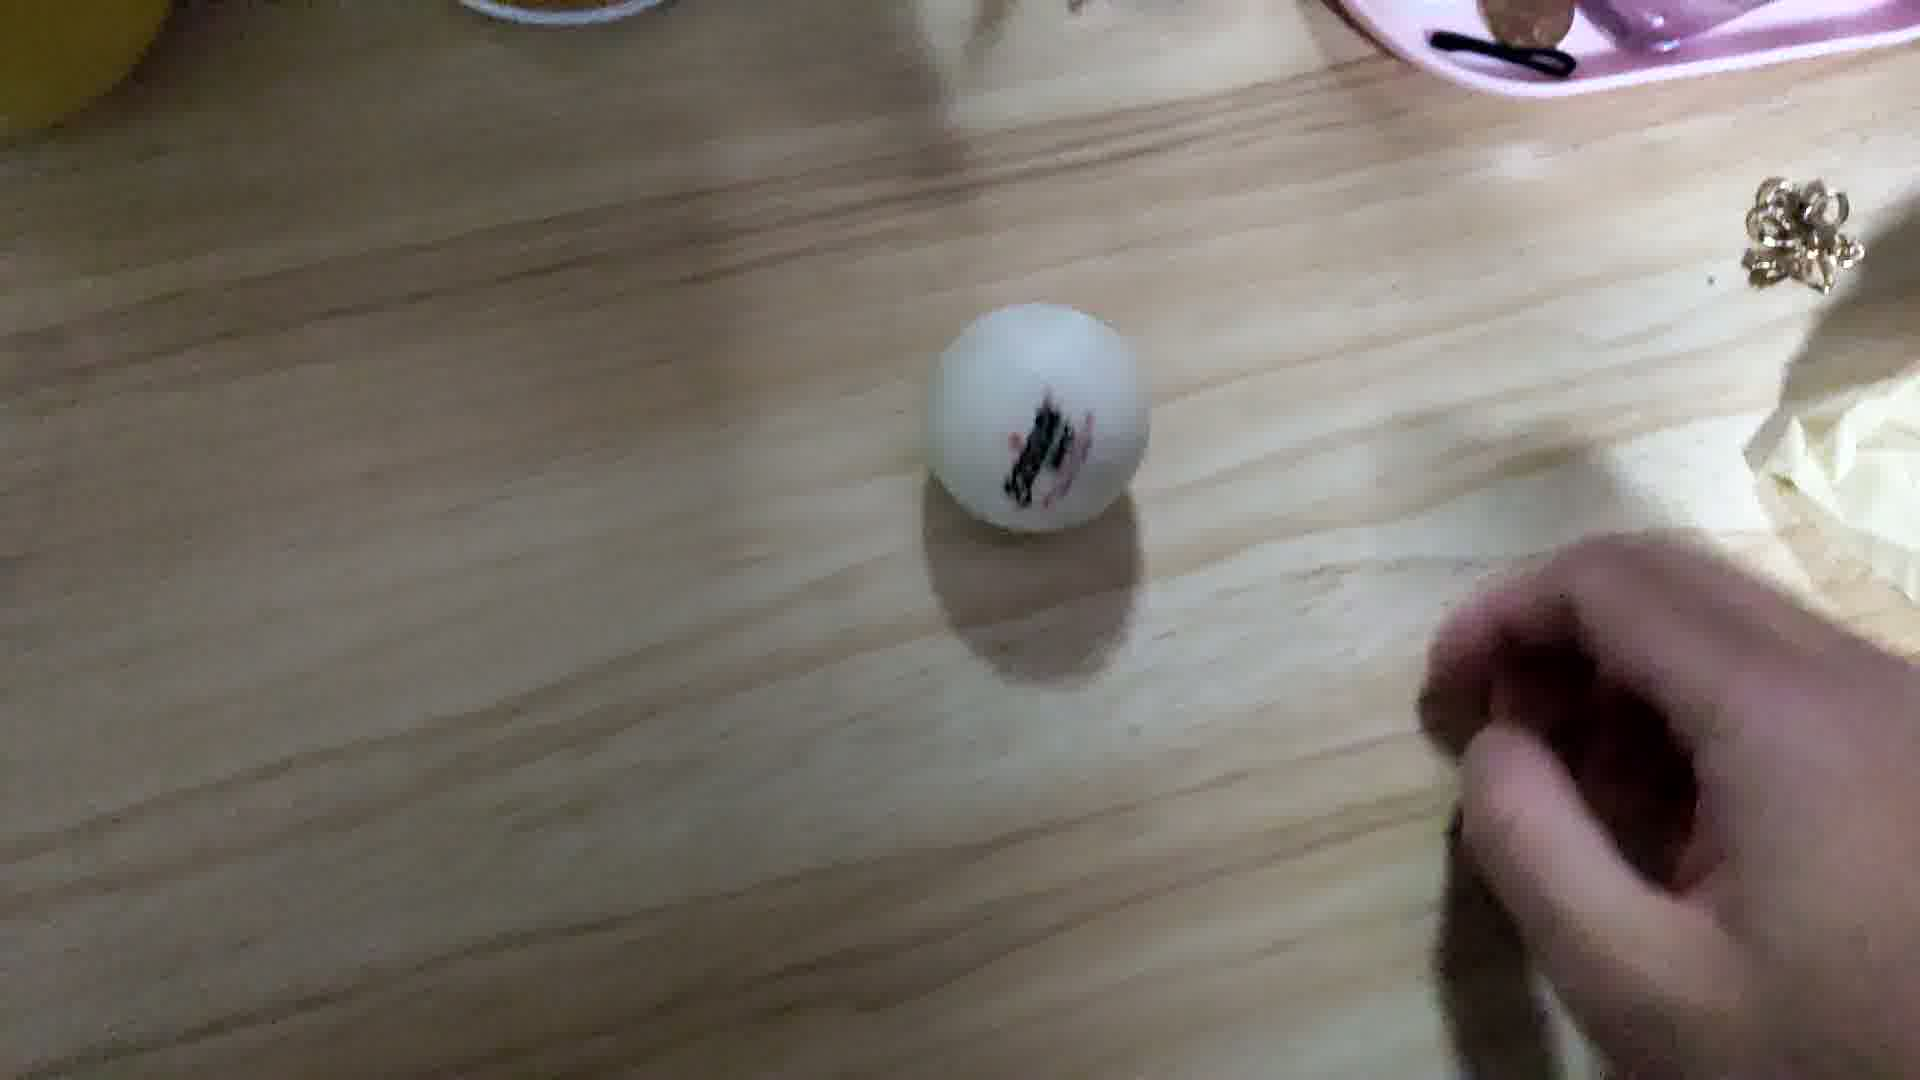Ball: (927, 298, 1151, 531)
